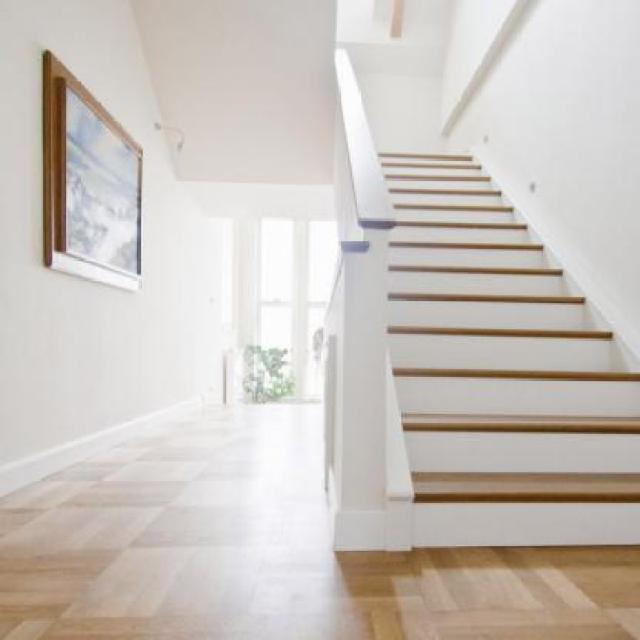stair: (315, 71, 639, 557)
